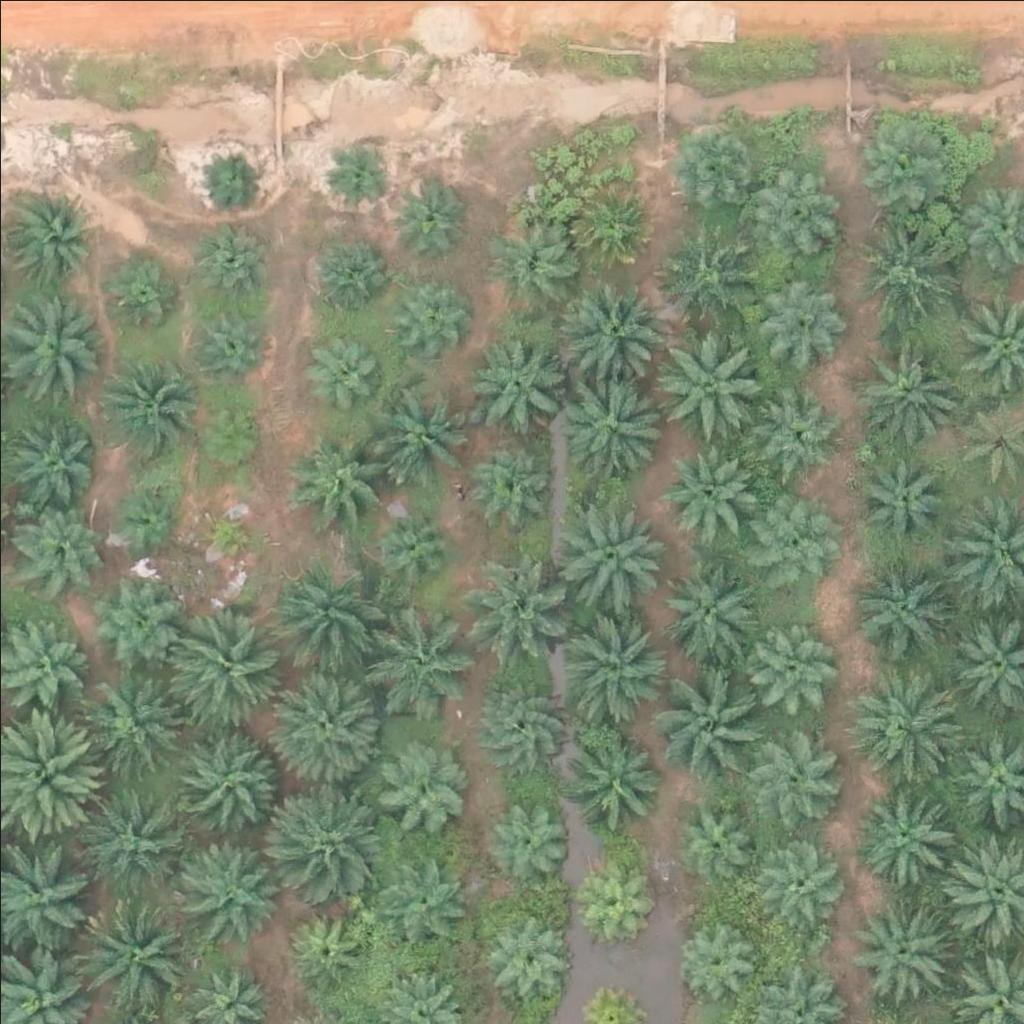Kelapa_Sawit: (559, 500, 672, 614), (81, 896, 194, 1009), (77, 784, 190, 897), (170, 729, 283, 842), (273, 668, 386, 781), (554, 274, 667, 387), (562, 370, 675, 483), (850, 771, 963, 884), (849, 662, 962, 775), (274, 565, 386, 679), (557, 604, 669, 718), (655, 327, 767, 441), (178, 828, 290, 941), (173, 611, 285, 724), (276, 777, 388, 890), (463, 560, 575, 673), (659, 666, 771, 779), (855, 205, 967, 318), (86, 675, 186, 776), (84, 574, 184, 675), (292, 426, 392, 527), (378, 377, 478, 478), (378, 605, 478, 706), (468, 329, 568, 430), (565, 729, 665, 830), (662, 561, 762, 662), (660, 224, 760, 325), (741, 724, 841, 825), (852, 904, 952, 1005), (858, 331, 958, 432), (93, 360, 193, 461), (1, 296, 101, 396), (371, 740, 471, 840), (473, 672, 573, 772), (849, 105, 949, 205), (852, 556, 951, 657), (16, 500, 104, 588), (191, 217, 279, 305), (572, 179, 660, 267), (283, 903, 371, 991), (369, 501, 457, 589), (488, 910, 576, 998), (662, 441, 750, 529), (760, 273, 848, 361), (762, 838, 850, 926), (14, 412, 101, 501), (384, 852, 471, 941), (750, 165, 837, 254), (5, 193, 92, 281), (182, 298, 269, 386), (487, 794, 574, 882), (465, 432, 552, 520), (488, 212, 575, 300), (671, 914, 758, 1002), (674, 790, 761, 878), (672, 120, 759, 208), (760, 395, 847, 483), (751, 507, 838, 595), (748, 622, 835, 710), (857, 456, 944, 544), (311, 327, 386, 403), (309, 239, 384, 315), (110, 479, 185, 555), (191, 392, 266, 468), (577, 856, 652, 932), (103, 258, 178, 333), (391, 273, 466, 348), (393, 173, 468, 248), (332, 144, 395, 207), (200, 148, 262, 211), (197, 504, 259, 567)
